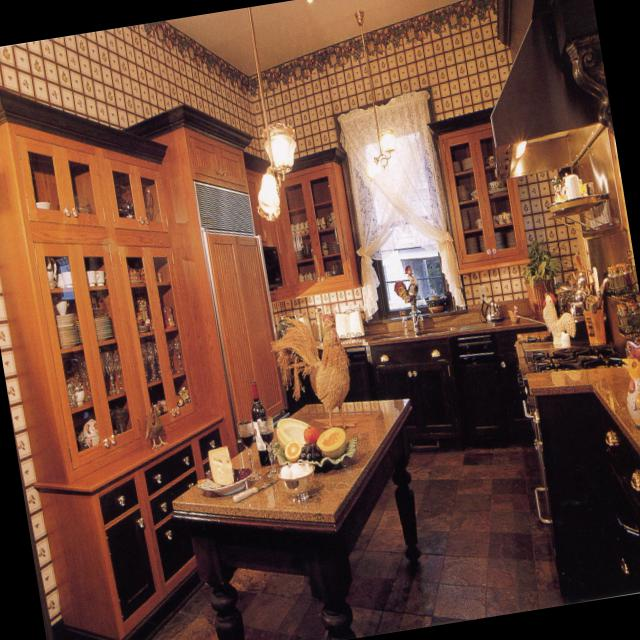2001: (336, 84, 469, 321)
2017: (238, 419, 262, 477), (257, 415, 279, 472)
back splash: (573, 131, 640, 354)
book case: (336, 308, 365, 339)
bottle soap: (251, 381, 273, 464)
bowl -X: (278, 461, 314, 501), (37, 200, 51, 208)
bowl of garlic: (429, 298, 446, 312)
cabinet door: (426, 105, 530, 273)
cabinets: (285, 322, 585, 451), (532, 393, 640, 603), (245, 145, 363, 302)
ceiling beam: (167, 0, 464, 76)
cheese: (209, 444, 234, 484)
china hutch: (0, 87, 222, 640)
counter: (313, 297, 584, 348), (527, 367, 640, 455)
cup and saucer: (55, 297, 69, 315), (87, 269, 100, 283), (584, 182, 596, 196), (97, 271, 105, 285)
cups: (478, 211, 513, 232)
curtains: (337, 90, 467, 317)
dish -X: (458, 185, 469, 201), (452, 160, 462, 172)
dishes crop: (318, 211, 335, 230), (296, 241, 313, 259), (292, 221, 309, 234), (489, 181, 506, 193), (300, 270, 315, 281), (330, 239, 341, 253), (321, 240, 329, 256)
electrical outlet: (478, 285, 488, 300)
faucet handle: (400, 311, 424, 331)
floor -X: (150, 443, 562, 640)
glass ceiling: (100, 348, 119, 395), (145, 342, 159, 383), (114, 352, 127, 393), (172, 336, 185, 372), (112, 409, 130, 430), (166, 341, 177, 374), (76, 195, 92, 213)
glasses -X: (70, 357, 92, 400), (66, 378, 78, 407)
grapes: (303, 443, 321, 460)
jar -X: (621, 339, 640, 426)
jar of utincils: (571, 263, 606, 345)
kettle: (482, 299, 502, 321)
kitchen tile: (174, 399, 421, 640)
knife holder: (233, 479, 279, 504)
ladle: (507, 306, 543, 322)
light fixture: (247, 9, 298, 219), (354, 10, 397, 167), (513, 140, 528, 158)
melon: (319, 429, 345, 456), (278, 418, 303, 442)
metal jar -X: (552, 177, 562, 201)
microwave oven: (263, 243, 283, 285)
molding: (497, 0, 614, 137)
mug: (564, 175, 582, 199), (76, 390, 86, 404), (485, 154, 495, 164), (471, 188, 478, 199)
mugs: (56, 271, 72, 286)
object: (128, 263, 147, 282), (559, 327, 572, 348)
orange: (286, 441, 301, 458)
pasta jar: (312, 306, 324, 343)
pitcher: (45, 257, 58, 288)
plant -x: (525, 241, 559, 306)
plate: (275, 420, 357, 466)
plate food: (200, 468, 252, 496)
plates: (56, 310, 84, 349), (93, 311, 114, 338), (462, 156, 473, 171)
range hood: (490, 16, 608, 173)
refrigerator: (123, 102, 289, 455)
rooster: (276, 313, 356, 427), (542, 291, 576, 341), (394, 263, 421, 313), (146, 404, 167, 448)
shelf crop: (548, 203, 609, 234)
sink basin: (376, 324, 453, 344)
spice rack: (606, 257, 640, 336)
stove top: (516, 331, 623, 376)
teapot: (84, 417, 101, 444)
wall clock: (0, 0, 513, 156), (464, 172, 585, 303)
